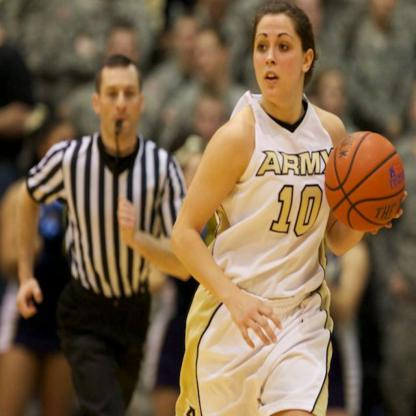Ball: (323, 133, 407, 229)
